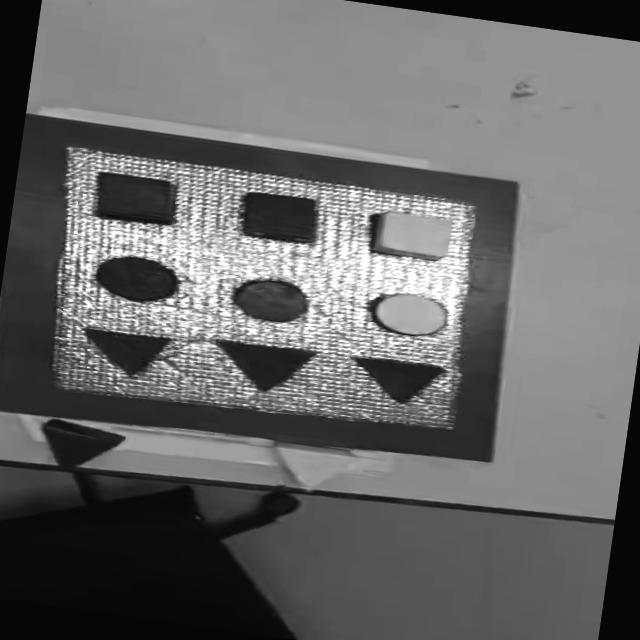bcircle: (90, 251, 184, 308)
bcube: (92, 170, 182, 229)
mttriangle: (210, 338, 318, 400), (77, 324, 176, 384), (352, 354, 448, 411)
rcircle: (226, 272, 316, 330)
rcube: (240, 191, 320, 246)
rtriangle: (39, 418, 128, 476)
wb: (34, 146, 490, 444)
ycircle: (369, 289, 453, 342)
ycube: (368, 208, 454, 264)
ytriangle: (270, 440, 358, 498)
